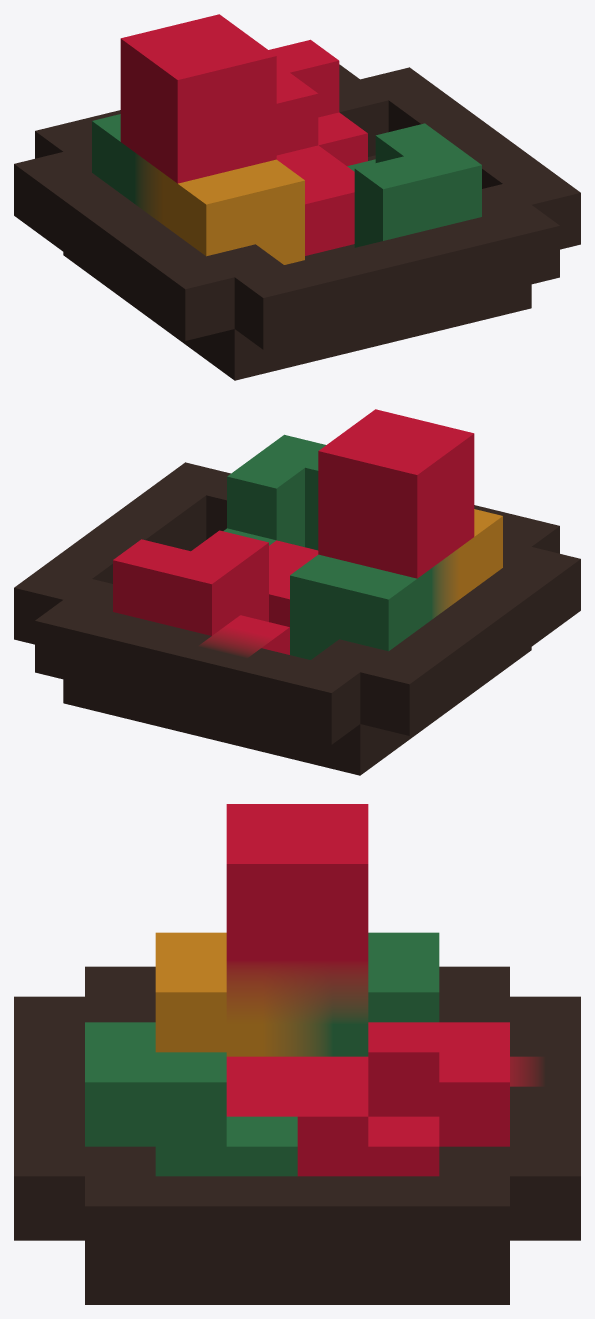
File: Food_Bowl_00.fbx
3 views of the same model, one above another, from view 1: azimuth 30°, elevation 25°; view 2: azimuth 150°, elevation 25°; view 3: azimuth 270°, elevation 25° (orthographic). The views are drawn at different scales.
Parts seen in each view (by area): view 1: Food_Bowl_00; view 2: Food_Bowl_00; view 3: Food_Bowl_00.
Boxes of the visible parts, x1,y1,x2,y2 form: Food_Bowl_00: (14, 14, 580, 380); Food_Bowl_00: (14, 409, 580, 775); Food_Bowl_00: (14, 804, 580, 1304).
Bounding box in the file's own units: 40 × 25 × 40.
